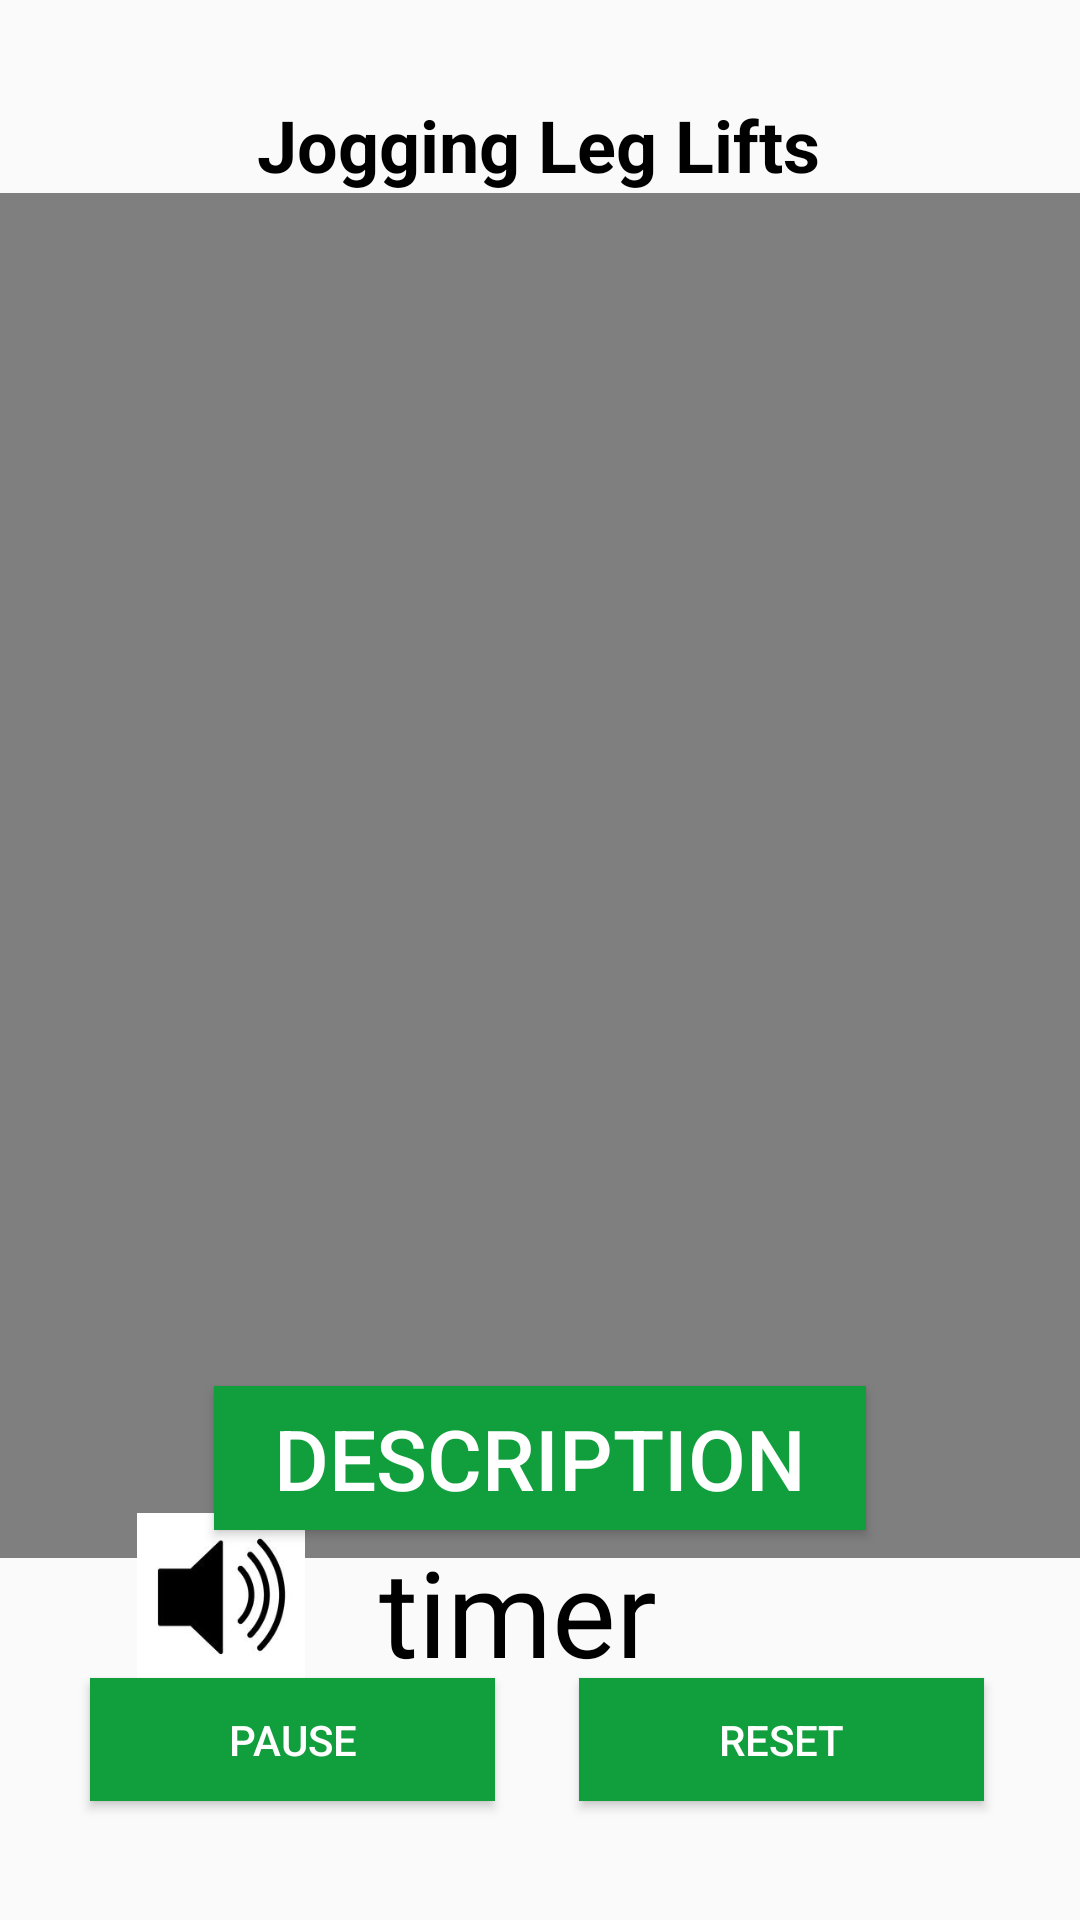

Point at icon controls on the screen. Image size 1080*1920, points as (x,y).
speakericon: (221,1597)
